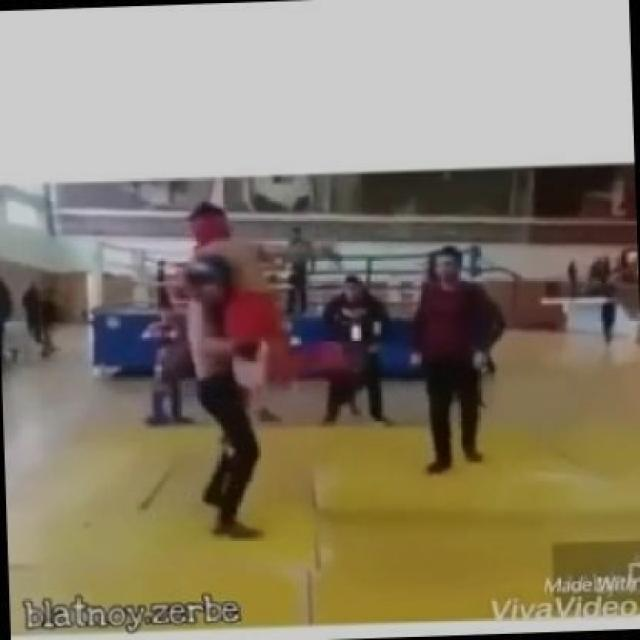fight: (175, 197, 358, 536)
non-fight: (406, 239, 500, 474), (322, 276, 389, 424)
